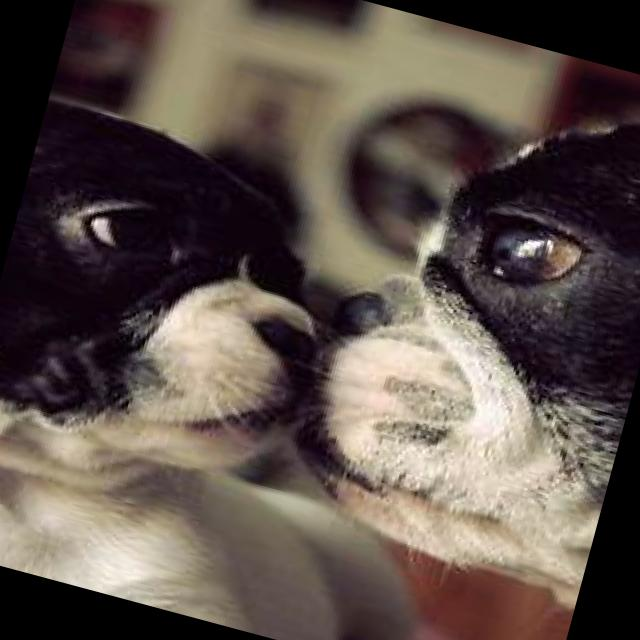animal: (262, 38, 640, 613), (0, 92, 357, 625)
